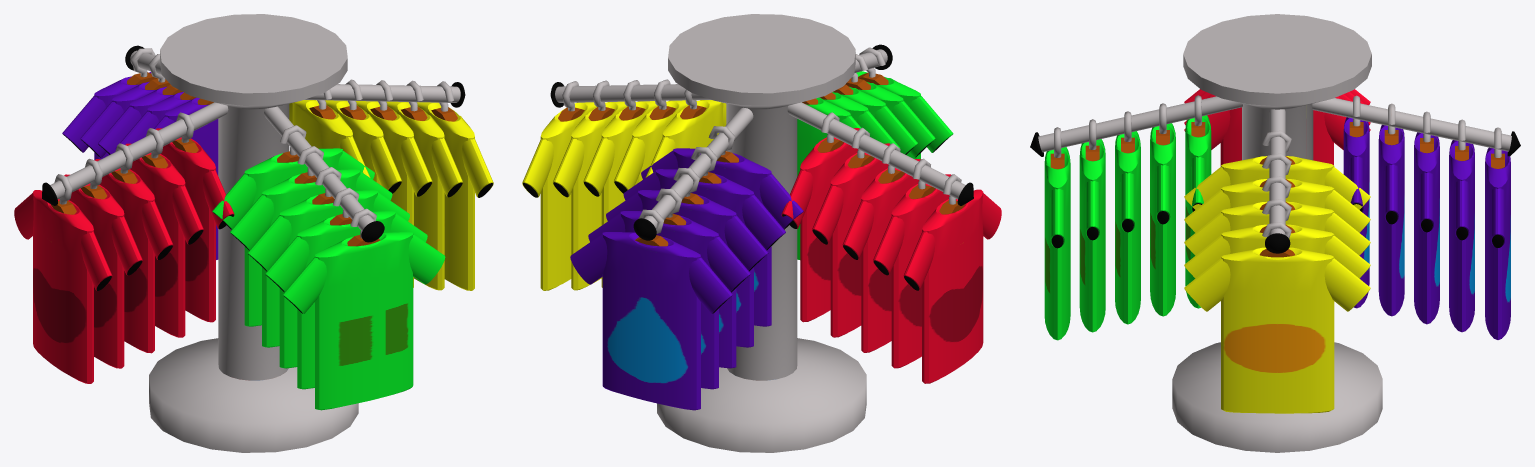
The model's file is FilledFloorClothingRack.fbx.
3 views of the same model, side by side, from view 1: azimuth 30°, elevation 25°; view 2: azimuth 150°, elevation 25°; view 3: azimuth 270°, elevation 25° (orthographic).
Visible parts, largest first — view 1: FilledFloorClothingRack1; view 2: FilledFloorClothingRack1; view 3: FilledFloorClothingRack1.
Boxes of the visible parts, left/top/right/bottom form: FilledFloorClothingRack1: left=14, top=14, right=493, bottom=452; FilledFloorClothingRack1: left=522, top=14, right=1001, bottom=452; FilledFloorClothingRack1: left=1030, top=14, right=1520, bottom=452.
Bounding box in the file's own units: 278 × 222 × 279.
